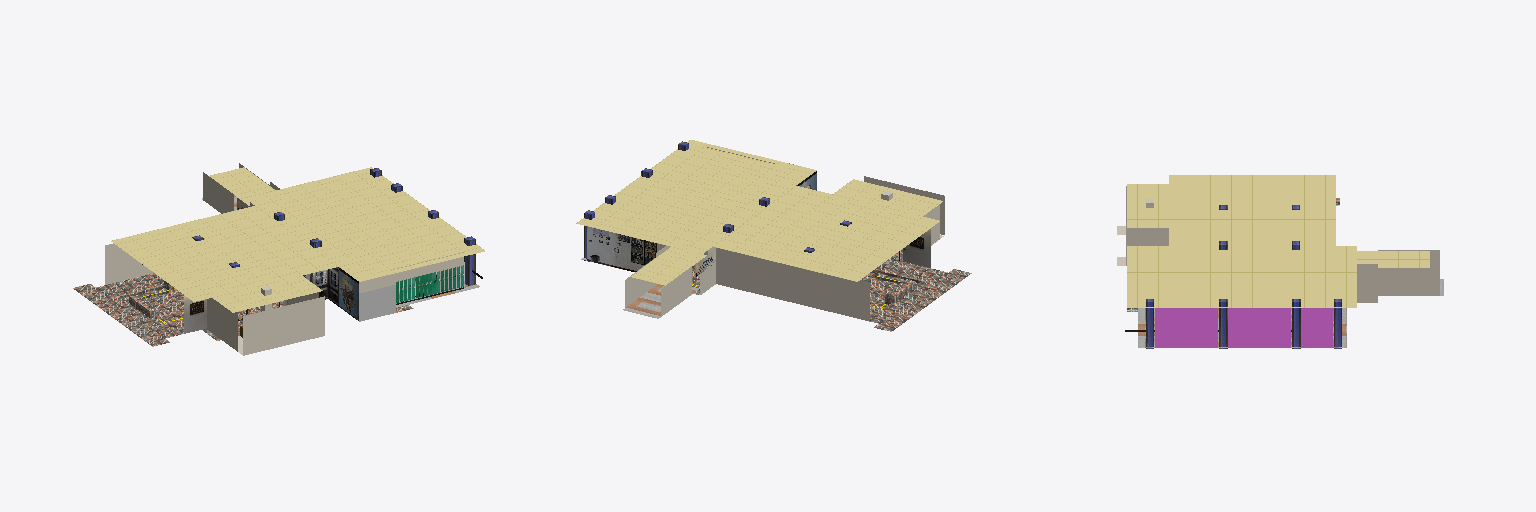
3 views of the same model, side by side, from view 1: azimuth 30°, elevation 25°; view 2: azimuth 150°, elevation 25°; view 3: azimuth 270°, elevation 25° (orthographic).
Parts seen in each view (by area): view 1: Plane.499_Plane.390, Plane.500_Plane.391, Plane.496_Plane.386, Plane.508_Plane.399, Plane.502_Plane.393, Plane.505_Plane.396, Plane.503_Plane.394, Plane.504_Plane.395, Plane.377_Plane.253, Plane.292_Plane.227, Plane.293_Plane.228, Plane.294_Plane.229 (+16 smaller); view 2: Plane.499_Plane.390, Plane.500_Plane.391, Plane.496_Plane.386, Plane.508_Plane.399, Plane.502_Plane.393, Plane.505_Plane.396, Plane.503_Plane.394, Plane.504_Plane.395, Plane.377_Plane.253, Plane.262_Plane.198, Plane.039_Plane.036, Plane.148_Plane.118 (+16 smaller); view 3: Plane.496_Plane.386, Plane.508_Plane.399, Plane.500_Plane.391, Plane.502_Plane.393, Plane.499_Plane.390, Plane.505_Plane.396, Plane.503_Plane.394, Plane.504_Plane.395, Plane.377_Plane.253, Plane.309_Plane.236, Plane.310_Plane.237, Plane.312_Plane.239 (+15 smaller).
Boxes of the visible parts, x1,y1,x2,y2 form: Plane.499_Plane.390: [183, 206, 295, 253]; Plane.500_Plane.391: [225, 236, 337, 283]; Plane.496_Plane.386: [111, 223, 223, 270]; Plane.508_Plane.399: [245, 181, 357, 228]; Plane.502_Plane.393: [287, 211, 399, 258]; Plane.505_Plane.396: [329, 246, 412, 281]; Plane.503_Plane.394: [349, 191, 429, 225]; Plane.504_Plane.395: [380, 215, 464, 248]; Plane.377_Plane.253: [317, 167, 393, 202]; Plane.292_Plane.227: [270, 303, 297, 348]; Plane.293_Plane.228: [243, 310, 269, 355]; Plane.294_Plane.229: [298, 296, 324, 341]; Plane.499_Plane.390: [713, 216, 825, 263]; Plane.500_Plane.391: [755, 186, 867, 233]; Plane.496_Plane.386: [786, 234, 898, 281]; Plane.508_Plane.399: [630, 206, 742, 253]; Plane.502_Plane.393: [673, 176, 785, 223]; Plane.505_Plane.396: [732, 157, 816, 192]; Plane.503_Plane.394: [614, 178, 691, 213]; Plane.504_Plane.395: [639, 155, 722, 190]; Plane.377_Plane.253: [576, 203, 659, 236]; Plane.262_Plane.198: [612, 232, 657, 271]; Plane.039_Plane.036: [788, 265, 815, 307]; Plane.148_Plane.118: [843, 279, 869, 321]; Plane.496_Plane.386: [1253, 175, 1335, 210]; Plane.508_Plane.399: [1273, 246, 1356, 280]; Plane.500_Plane.391: [1169, 211, 1252, 245]; Plane.502_Plane.393: [1190, 246, 1272, 280]; Plane.499_Plane.390: [1253, 211, 1335, 245]; Plane.505_Plane.396: [1127, 246, 1189, 272]; Plane.503_Plane.394: [1232, 281, 1293, 307]; Plane.504_Plane.395: [1169, 281, 1231, 307]; Plane.377_Plane.253: [1294, 281, 1356, 307]; Plane.309_Plane.236: [1228, 308, 1259, 347]; Plane.310_Plane.237: [1155, 308, 1186, 347]; Plane.312_Plane.239: [1301, 308, 1332, 347].
Bounding box in the file's own units: 34 × 6 × 31.5.
583 materials, 27 textured.